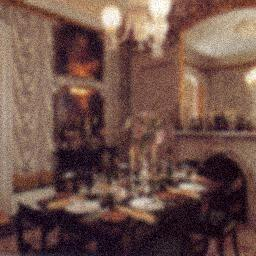Puerta: (138, 64, 176, 164)
